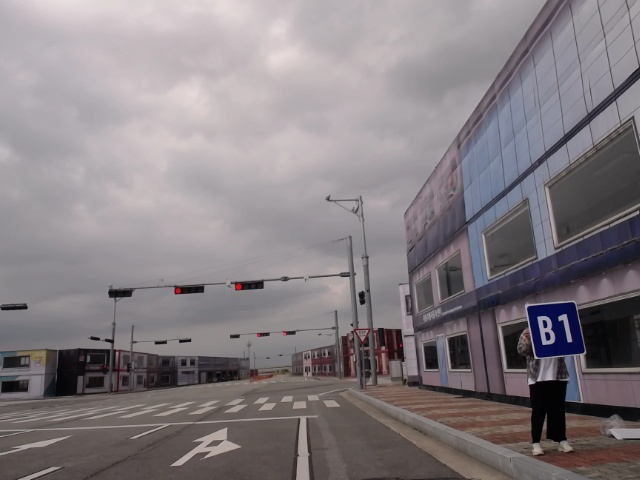delivery_b1: (526, 301, 586, 359)
red_4: (234, 280, 264, 291), (174, 285, 204, 295), (283, 330, 296, 336), (257, 332, 270, 337)
